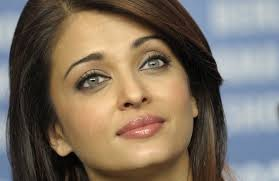indian_female: (31, 1, 214, 174)
